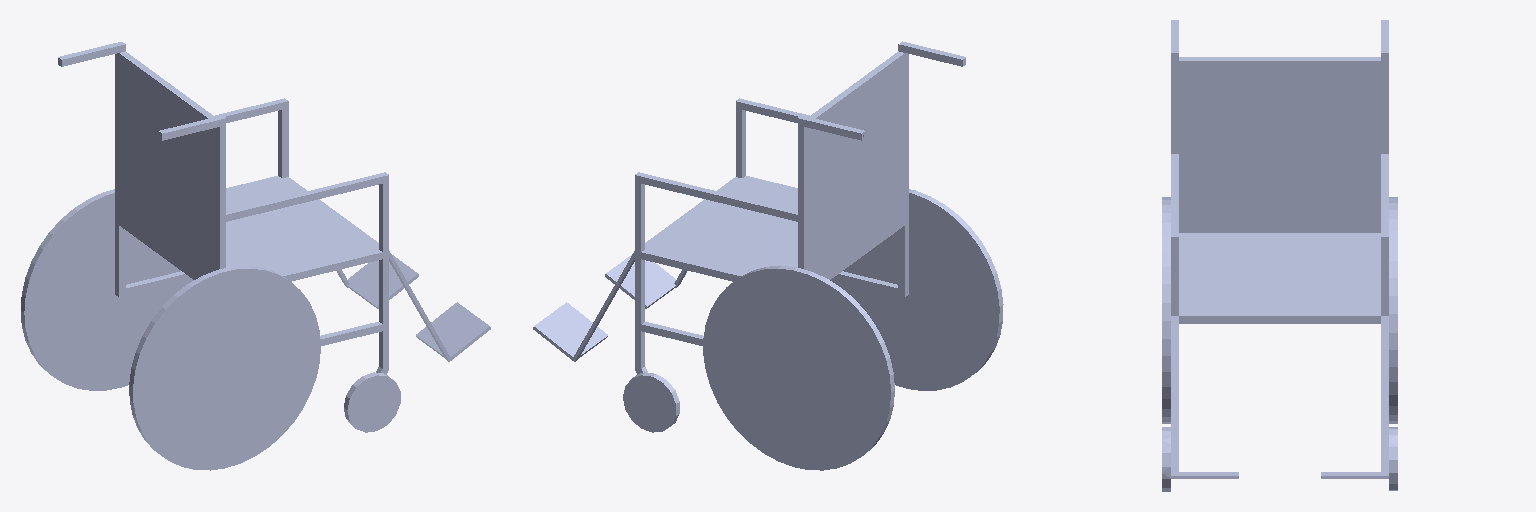
The robot description file, URDF, robot "wheelchair_v2":
<?xml version="1.0" encoding="utf-8"?>
<!-- This URDF was automatically created by SolidWorks to URDF Exporter! Originally created by [author] ([email redacted]) 
     Commit Version: 1.6.0-1-g15f4949  Build Version: 1.6.7594.29634
     For more information, please see http://wiki.ros.org/sw_urdf_exporter -->
<robot
  name="wheelchair_v2">
  <link
    name="base_link">
    <inertial>
      <origin
        xyz="0.185085589874784 0 0.541546758756048"
        rpy="0 0 0" />
      <mass
        value="13.4889670283711" />
      <inertia
        ixx="1.08377442112077"
        ixy="-1.34067417953182E-15"
        ixz="0.430610086386927"
        iyy="1.22951649193508"
        iyz="1.2422535228567E-15"
        izz="1.04754847156079" />
    </inertial>
    <visual>
      <origin
        xyz="0 0 0"
        rpy="0 0 0" />
      <geometry>
        <mesh
          filename="wheelchair/base_link.STL" />
      </geometry>
      <material
        name="">
        <color
          rgba="0.792156862745098 0.819607843137255 0.933333333333333 1" />
      </material>
    </visual>
    <collision>
      <origin
        xyz="0 0 0"
        rpy="0 0 0" />
      <geometry>
        <mesh
          filename="wheelchair/base_link.STL" />
      </geometry>
    </collision>
  </link>
  <link
    name="rightwheel_link">
    <inertial>
      <origin
        xyz="-5.55111512312578E-17 -1.11022302462516E-16 1.11022302462516E-16"
        rpy="0 0 0" />
      <mass
        value="4.9260172808288" />
      <inertia
        ixx="0.096714139280272"
        ixy="-2.4213848518843E-18"
        ixz="-1.19968682188786E-17"
        iyy="0.0967141392802721"
        iyz="-7.89863104865079E-18"
        izz="0.193099877408489" />
    </inertial>
    <visual>
      <origin
        xyz="0 0 0"
        rpy="0 0 0" />
      <geometry>
        <mesh
          filename="wheelchair/rightwheel_link.STL" />
      </geometry>
      <material
        name="">
        <color
          rgba="0.792156862745098 0.819607843137255 0.933333333333333 1" />
      </material>
    </visual>
    <collision>
      <origin
        xyz="0 0 0"
        rpy="0 0 0" />
      <geometry>
        <mesh
          filename="wheelchair/rightwheel_link.STL" />
      </geometry>
    </collision>
  </link>
  <joint
    name="rightwheel"
    type="revolute">
    <origin
      xyz="0 -0.28 0.28"
      rpy="1.5707963267949 0 0" />
    <parent
      link="base_link" />
    <child
      link="rightwheel_link" />
    <axis
      xyz="0 0 -1" />
    <limit
      lower="0"
      upper="0"
      effort="0"
      velocity="0" />
  </joint>
  <link
    name="leftwheel_link">
    <inertial>
      <origin
        xyz="1.66533453693773E-16 8.32667268468867E-17 0"
        rpy="0 0 0" />
      <mass
        value="4.9260172808288" />
      <inertia
        ixx="0.0967141392802721"
        ixy="7.37469079177446E-34"
        ixz="2.92354253245833E-35"
        iyy="0.096714139280272"
        iyz="-2.66542395759848E-35"
        izz="0.193099877408489" />
    </inertial>
    <visual>
      <origin
        xyz="0 0 0"
        rpy="0 0 0" />
      <geometry>
        <mesh
          filename="wheelchair/leftwheel_link.STL" />
      </geometry>
      <material
        name="">
        <color
          rgba="0.792156862745098 0.819607843137255 0.933333333333333 1" />
      </material>
    </visual>
    <collision>
      <origin
        xyz="0 0 0"
        rpy="0 0 0" />
      <geometry>
        <mesh
          filename="wheelchair/leftwheel_link.STL" />
      </geometry>
    </collision>
  </link>
  <joint
    name="leftwheel"
    type="revolute">
    <origin
      xyz="0 0.28 0.28"
      rpy="1.5707963267949 0 3.14159265358979" />
    <parent
      link="base_link" />
    <child
      link="leftwheel_link" />
    <axis
      xyz="0 0 -1" />
    <limit
      lower="0"
      upper="0"
      effort="0"
      velocity="0" />
  </joint>
  <link
    name="righthandle_link">
    <inertial>
      <origin
        xyz="0.0005 -4.44089209850063E-16 1.11022302462516E-16"
        rpy="0 0 0" />
      <mass
        value="2.49999999999995E-05" />
      <inertia
        ixx="1.04166666666663E-10"
        ixy="-1.42225597694036E-40"
        ixz="-7.02314641107201E-41"
        iyy="5.41666666666634E-11"
        iyz="-5.4641521915475E-27"
        izz="5.41666666666657E-11" />
    </inertial>
    <visual>
      <origin
        xyz="0 0 0"
        rpy="0 0 0" />
      <geometry>
        <mesh
          filename="wheelchair/righthandle_link.STL" />
      </geometry>
      <material
        name="">
        <color
          rgba="0.792156862745098 0.819607843137255 0.933333333333333 1" />
      </material>
    </visual>
    <collision>
      <origin
        xyz="0 0 0"
        rpy="0 0 0" />
      <geometry>
        <mesh
          filename="wheelchair/righthandle_link.STL" />
      </geometry>
    </collision>
  </link>
  <joint
    name="righthandle"
    type="fixed">
    <origin
      xyz="-0.181894510621608 -0.26 0.975"
      rpy="0 0 0" />
    <parent
      link="base_link" />
    <child
      link="righthandle_link" />
    <axis
      xyz="0 0 0" />
  </joint>
  <link
    name="lefthandle_link">
    <inertial>
      <origin
        xyz="0.0005 -2.22044604925031E-16 -1.11022302462516E-16"
        rpy="0 0 0" />
      <mass
        value="2.4999999999999E-05" />
      <inertia
        ixx="1.04166666666658E-10"
        ixy="-8.0734530457735E-41"
        ixz="-1.54935707519739E-40"
        iyy="5.41666666666622E-11"
        iyz="2.15411617852353E-27"
        izz="5.41666666666622E-11" />
    </inertial>
    <visual>
      <origin
        xyz="0 0 0"
        rpy="0 0 0" />
      <geometry>
        <mesh
          filename="wheelchair/lefthandle_link.STL" />
      </geometry>
      <material
        name="">
        <color
          rgba="0.792156862745098 0.819607843137255 0.933333333333333 1" />
      </material>
    </visual>
    <collision>
      <origin
        xyz="0 0 0"
        rpy="0 0 0" />
      <geometry>
        <mesh
          filename="wheelchair/lefthandle_link.STL" />
      </geometry>
    </collision>
  </link>
  <joint
    name="lefthandle"
    type="fixed">
    <origin
      xyz="-0.181894510621608 0.26 0.975"
      rpy="0 0 0" />
    <parent
      link="base_link" />
    <child
      link="lefthandle_link" />
    <axis
      xyz="0 0 0" />
  </joint>
</robot>

--- Render facts (derived) ---
Views: 3 orthographic renders of the robot side by side, from view 1: azimuth 30°, elevation 25°; view 2: azimuth 150°, elevation 25°; view 3: azimuth 270°, elevation 25°.
Model wheelchair_v2 with 5 links and 4 joints (2 revolute, 2 fixed), rooted at base_link, posed every joint at zero.
Links seen in each view (by area): view 1: base_link, rightwheel_link, leftwheel_link; view 2: base_link, leftwheel_link, rightwheel_link; view 3: base_link, rightwheel_link, leftwheel_link.
Boxes of the visible links, x1,y1,x2,y2 form: base_link: [58, 42, 490, 432]; rightwheel_link: [129, 266, 320, 470]; leftwheel_link: [21, 189, 193, 390]; base_link: [533, 41, 965, 432]; leftwheel_link: [703, 266, 894, 470]; rightwheel_link: [830, 189, 1003, 390]; base_link: [1162, 20, 1397, 491]; rightwheel_link: [1162, 197, 1170, 423]; leftwheel_link: [1389, 197, 1397, 423].
Size in the robot's own frame: 1.08 by 0.58 by 0.985 metres.
5 mesh visuals loaded from 5 distinct referenced files (5 binary STL).